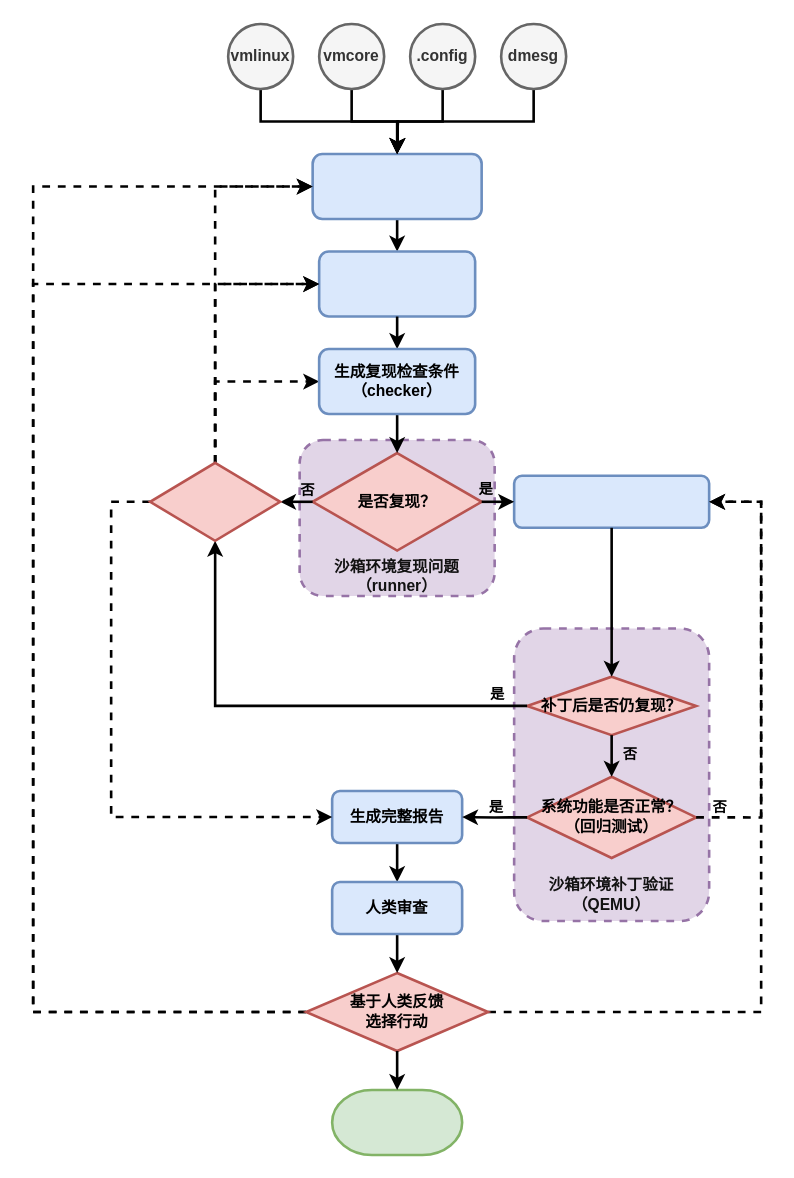
This 794x1178 diagram has some shape labels left out. The centre of each missing label's shape, as x and y in pixels:
基于根因假设生成修复补丁 （PATCH）: pixel 611 501
基于观察给出根因假设: pixel 396 186
生成问题复现代码 （C/eBPF/shell）: pixel 396 283
结束: pixel 396 1122
选择下一步行动: pixel 214 501
